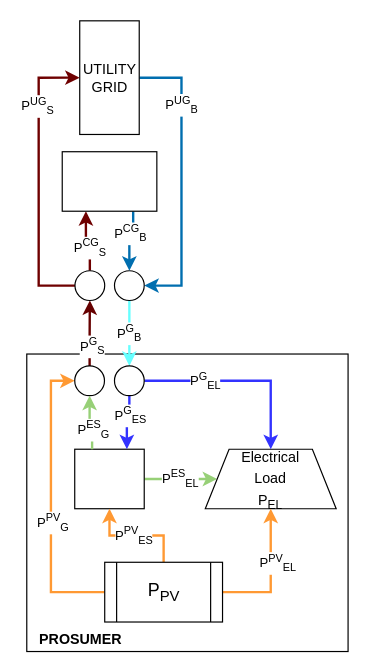
Some shapes in this 369 by 672 pixel diagram are drawn without their labels. Here are the shapes that lost their labels. From the top down, the box of each, then its label:
(61, 151, 157, 211): COMMUNITY GRID
(74, 448, 144, 509): Electrical Storage SoC
